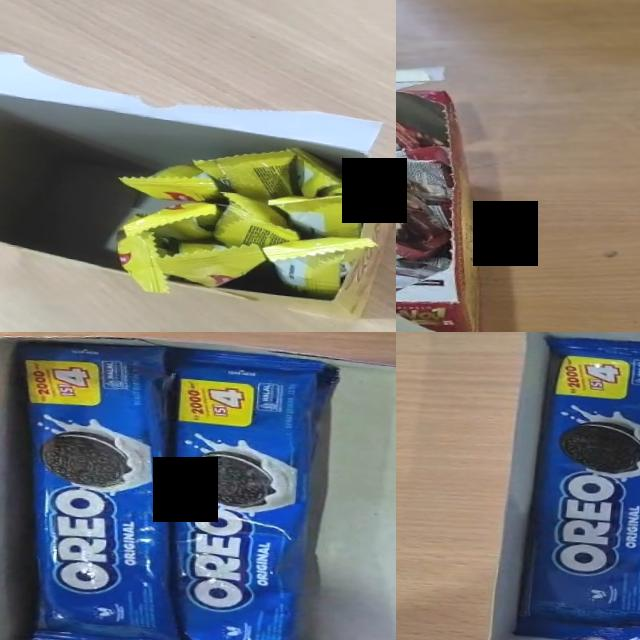Ahh: (257, 228, 379, 303), (188, 141, 299, 202), (205, 190, 303, 253), (154, 238, 268, 292), (264, 183, 368, 240), (116, 157, 226, 205), (121, 195, 223, 242), (286, 147, 370, 203), (114, 228, 178, 294)
Chocopie: (396, 121, 448, 204), (396, 192, 446, 258)
Oreo: (0, 332, 216, 640), (138, 344, 337, 640), (510, 332, 640, 640)
